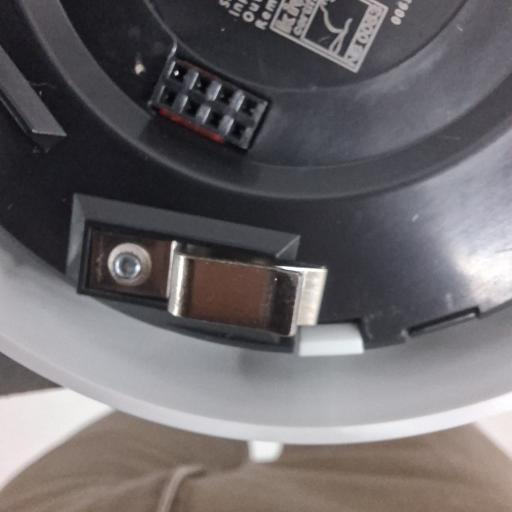yayli: (78, 225, 326, 340)
